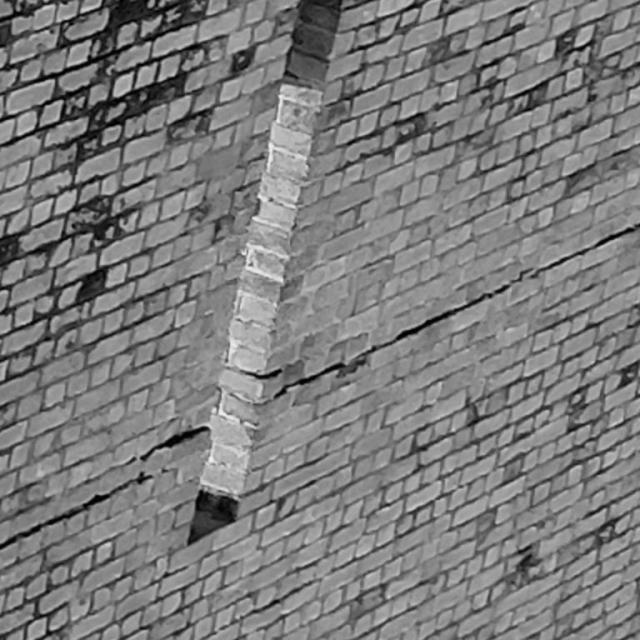crack: (274, 222, 640, 398), (0, 473, 152, 549), (140, 426, 211, 462), (239, 368, 283, 380)
